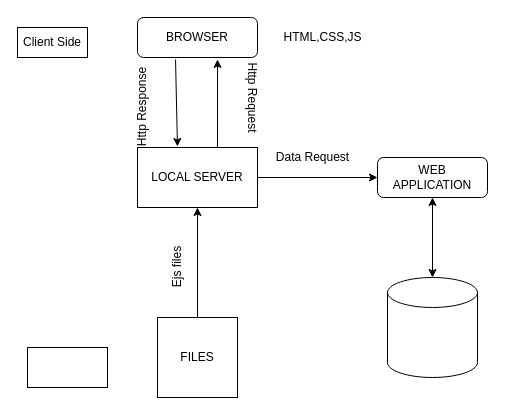
Some shapes in this 505 by 415 pixel diagram are drawn without their labels. Here are the shapes that lost their labels. From the top down, the box of each, then its label:
(386, 276, 478, 378): DATABASE
(26, 346, 108, 388): SERVER SIDE
